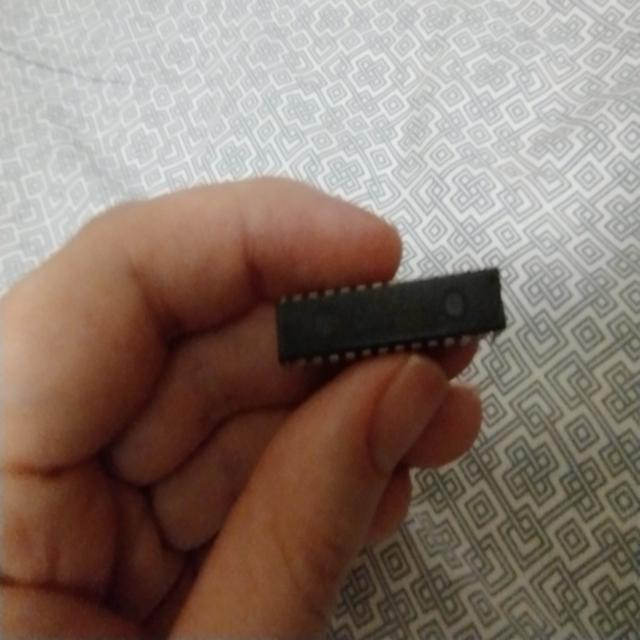atmega: (272, 263, 508, 372)
